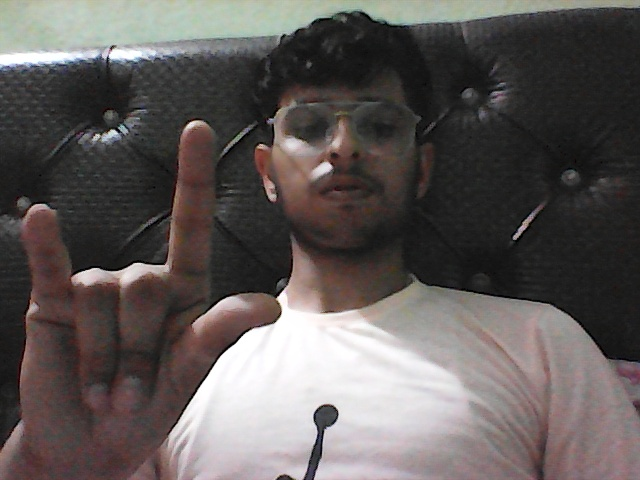iloveyou: (4, 111, 298, 480)
